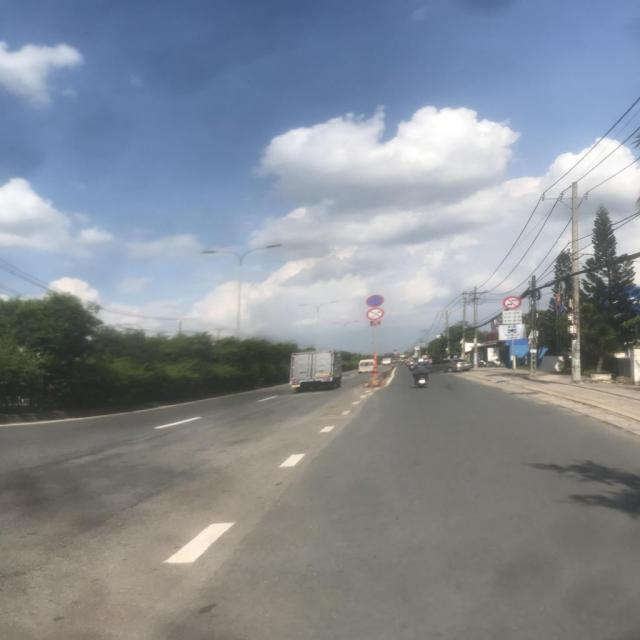107-cam-oto-khach-va-oto-tai: (502, 296, 522, 310)
